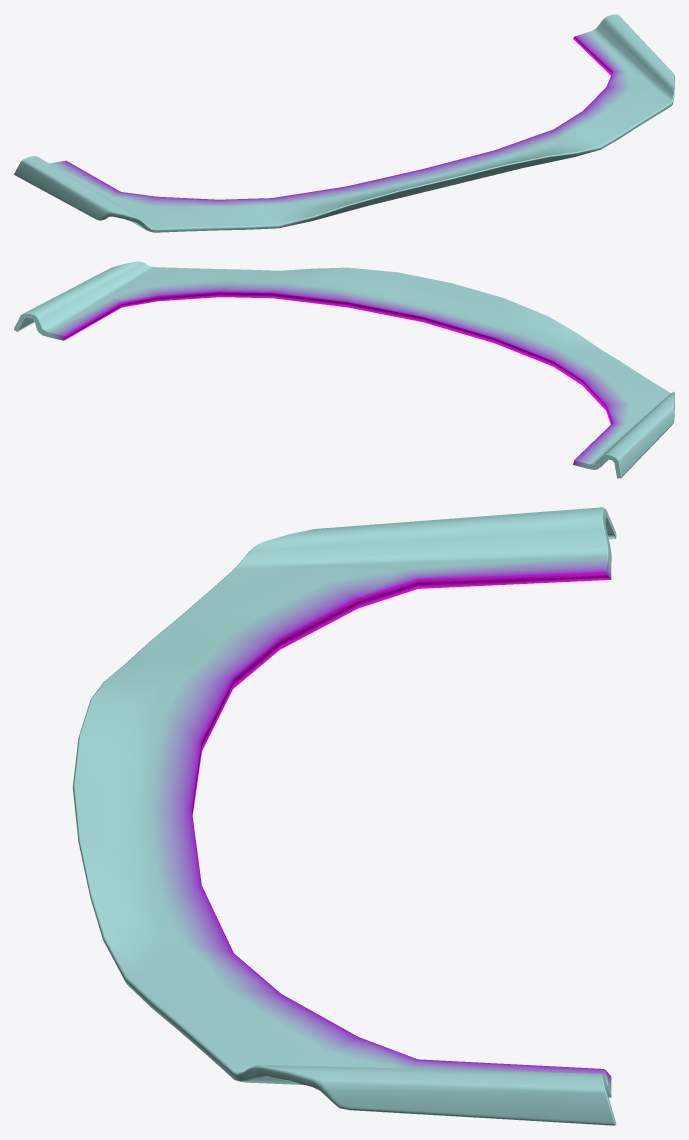
File: Car_Buick_GrandNational_1987_Splitter_SetBC.fbx
The picture shows the model from 3 angles, top to bottom: view 1: azimuth 30°, elevation 25°; view 2: azimuth 150°, elevation 25°; view 3: azimuth 270°, elevation 25°; orthographic projection. The views are drawn at different scales.
Visible parts, largest first — view 1: Splitter 6; view 2: Splitter 6; view 3: Splitter 6.
Boxes of the visible parts, x1,y1,x2,y2 form: Splitter 6: [14, 14, 674, 232]; Splitter 6: [14, 261, 674, 478]; Splitter 6: [72, 507, 616, 1125].
Bounding box in the file's own units: 1.9 × 0.0698 × 0.7379.
